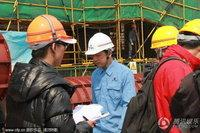helmet: (26, 14, 73, 44), (86, 33, 114, 55), (151, 27, 179, 47), (180, 17, 200, 36)
